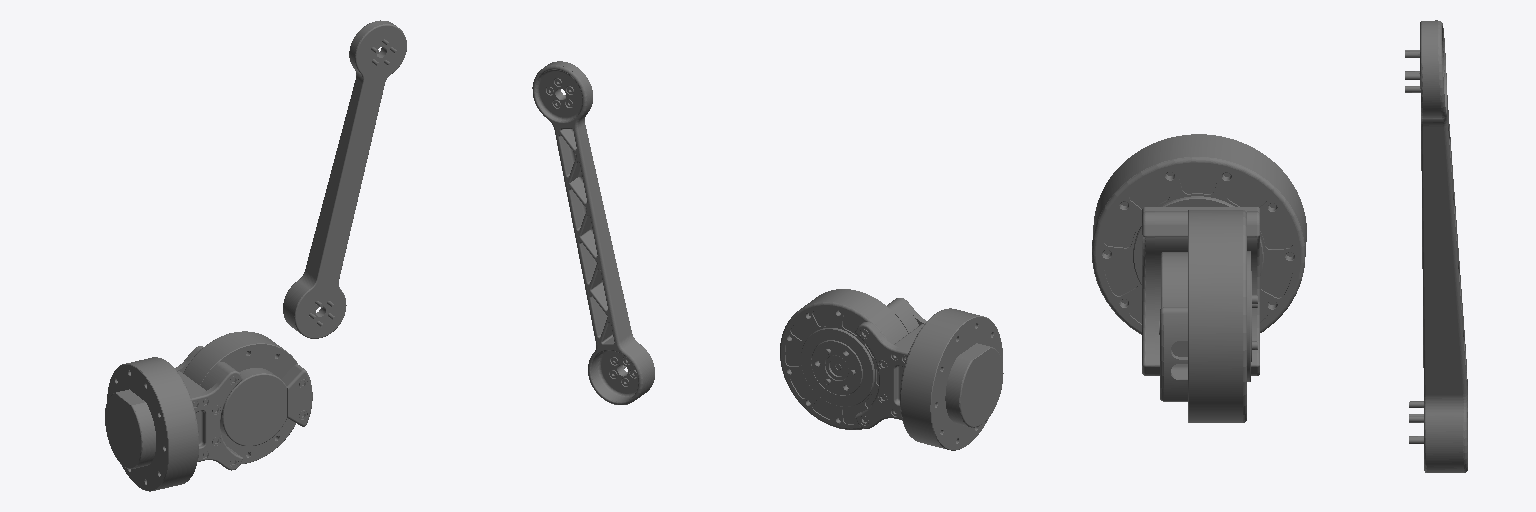
--- What the picture shows (computed from the rendered views, not written in the file) ---
The picture shows the robot from 3 angles, left to right: view 1: azimuth 30°, elevation 25°; view 2: azimuth 150°, elevation 25°; view 3: azimuth 270°, elevation 25°; orthographic projection.
Robot: quadruped — 12 links, 11 joints (6 revolute, 5 fixed); root link base_link; default pose: all joints at 0 but 3 set to mid-range because 0 is outside their limits (front_left_second_joint = 3.14, front_left_third_joint = 3.11, front_left_fourth_joint = -1.85).
Visible links, largest first — view 1: front_left_second_link, front_left_fifth_link, front_left_first_link; view 2: front_left_second_link, front_left_fifth_link, front_left_first_link; view 3: front_left_second_link, front_left_first_link, front_left_fifth_link.
Link boxes in pixels (<box>): front_left_second_link: <box>175,331,312,470</box>; front_left_fifth_link: <box>283,20,406,338</box>; front_left_first_link: <box>105,357,198,491</box>; front_left_second_link: <box>780,289,926,429</box>; front_left_fifth_link: <box>532,61,654,404</box>; front_left_first_link: <box>900,308,1003,450</box>; front_left_second_link: <box>1142,207,1259,422</box>; front_left_first_link: <box>1092,134,1306,334</box>; front_left_fifth_link: <box>1405,20,1467,472</box>.
Bounding box of the posed robot: 0.3059 × 0.1726 × 0.279 m (x, y, z).
Meshes: 7 distinct files referenced, 3 mesh visuals loaded (3 Collada DAE); not drawn: 4 (reference not matched to a file when rendering).

URDF robot description (quadruped):
<?xml version="1.0" ?>
<!-- =================================================================================== -->
<!-- |    This document was autogenerated by xacro from src/quadruped_robot_description/urdf/quadruped_robot.urdf.xacro | -->
<!-- |    EDITING THIS FILE BY HAND IS NOT RECOMMENDED                                 | -->
<!-- =================================================================================== -->
<robot name="quadruped">
  <gazebo>
    <plugin filename="ign_ros2_control-system" name="ign_ros2_control::IgnitionROS2ControlPlugin">
      <parameters>[local-path]/Documents/quadruped_robot/install/quadruped_controller/share/quadruped_controller/config/jtc_controllers.yaml</parameters>
    </plugin>
    <plugin filename="libignition-gazebo-detachable-joint-system.so" name="ignition::gazebo::systems::DetachableJoint">
      <parent_link>rear_left_foot_link</parent_link>
      <child_model>4BarBot</child_model>
      <child_link>rear_left_chain_close_b_link</child_link>
      <attach_topic>close_loop</attach_topic>
    </plugin>
    <!-- <plugin filename="libattach-links.so" name="ignition::gazebo::::systems::AttachLinks">
      <parent>rear_left_chain_close_a_link</parent>
      <child>rear_left_chain_close_b_link</child>
    </plugin> -->
  </gazebo>
  <mujoco>
    <compiler balanceinertia="true" discardvisual="false" meshdir="[local-path]/Documents/quadruped_robot/install/quadruped_robot_description/share/quadruped_robot_description/meshes"/>
  </mujoco>
  <material name="grey">
    <color rgba="0.5 0.5 0.5 1"/>
  </material>
  <link name="base_link">
    <visual>
      <origin rpy="0 0 3.141592653589793" xyz="0.0 0 0"/>
      <geometry name="base_link">
        <mesh filename="package://quadruped_robot_description/meshes/base_link.dae"/>
      </geometry>
      <material name="grey">
        <color rgba="0.5 0.5 0.5 1.0"/>
      </material>
    </visual>
    <collision>
      <origin rpy="0 0 3.141592653589793" xyz="0.0 0 0"/>
      <geometry name="base_link">
        <mesh filename="package://quadruped_robot_description/meshes/base_link.dae"/>
      </geometry>
    </collision>
    <inertial>
      <origin rpy="0.0 0.0 0.0" xyz="0.01 0 0.06"/>
      <mass value="50.0"/>
      <inertia ixx="0.2526041666666667" ixy="0.0" ixz="0.0" iyy="1.4920833333333334" iyz="0.0" izz="1.6613541666666667"/>
    </inertial>
  </link>
  <link name="imu_link"/>
  <joint name="imu_joint" type="fixed">
    <parent link="base_link"/>
    <child link="imu_link"/>
    <origin rpy=" 0.0 3.141592653589793 0.0" xyz="0.0 0.0 0.1"/>
  </joint>
  <!-- Define the thigh -->
  <!-- <link name="rear_left_leg_base_link"/> -->
  <!-- Define the joints -->
  <!-- <joint name="rear_left_base_to_leg_joint" type="fixed">
    <parent link="base_link"/>
    <child link="rear_left_leg_base_link"/>
    <origin rpy="0 0 3.141592653589793" xyz="-0.131 0.06 0.06"/>
  </joint>
  <link name="rear_left_first_link">
    <visual>
      <origin rpy="0 0 0" xyz="0.0 0 0.0"/>
      <geometry>
        <mesh filename="package://quadruped_robot_description/meshes/first_link.dae"/>
      </geometry>
      <material name="grey">
        <color rgba="0.5 0.5 0.5 1.0"/>
      </material>
    </visual>
    <collision name="rear_left_first_link_collision">
      <origin rpy="0 0 0" xyz="0.0 0 0.0"/>
      <geometry>
        <mesh filename="package://quadruped_robot_description/meshes/first_link.dae"/>
      </geometry>
    </collision>
    <inertial>
      <origin rpy="0.0 0.0 0.0" xyz="0.0 0.0 0.0"/>
      <mass value="0.6"/>
      <inertia ixx="0.0004550000000000001" ixy="0" ixz="0" iyy="0.0004550000000000001" iyz="0" izz="0.00075"/>
    </inertial>
  </link>
  <joint name="rear_left_leg_base_to_first_link_joint" type="fixed">
    <parent link="rear_left_leg_base_link"/>
    <child link="rear_left_first_link"/>
    <origin rpy="-1.5707963267948966 0.0 0.0" xyz="0.0 0.0 0.0"/>
  </joint>
  <link name="rear_left_second_link">
    <visual>
      <origin rpy="0 0 0" xyz="0.0 0 0.0"/>
      <geometry>
        <mesh filename="package://quadruped_robot_description/meshes/second_link.dae"/>
      </geometry>
      <material name="grey">
        <color rgba="0.5 0.5 0.5 1.0"/>
      </material>
    </visual>
    <collision name="rear_left_second_link_collision">
      <origin rpy="0 0 0" xyz="0.0 0 0.0"/>
      <geometry>
        <mesh filename="package://quadruped_robot_description/meshes/second_link.dae"/>
      </geometry>
    </collision>
    <inertial>
      <origin rpy="0.0 0.0 0.0" xyz="0.055 0  0"/>
      <mass value="0.6"/>
      <inertia ixx="0.0004550000000000001" ixy="0" ixz="0" iyy="0.0004550000000000001" iyz="0" izz="0.00075"/>
    </inertial>
  </link>
  <joint name="rear_left_first_joint" type="revolute">
    <parent link="rear_left_first_link"/>
    <child link="rear_left_second_link"/>
    <origin rpy="3.141592653589793 0.0 0.0" xyz="0.031 0.0 0.0"/>
    <axis xyz="1 0 0"/>
    <limit effort="100.0" lower="-3.1416" upper="3.1416" velocity="0.1"/>
    <dynamics damping="0.1" friction="0.1"/>
  </joint>
  <link name="rear_left_third_link">
    <visual>
      <origin rpy="0 0 0" xyz="0.0 0 0.0"/>
      <geometry>
        <mesh filename="package://quadruped_robot_description/meshes/third_link.dae"/>
      </geometry>
      <material name="grey">
        <color rgba="0.5 0.5 0.5 1.0"/>
      </material>
    </visual>
    <collision name="rear_left_third_link_collision">
      <origin rpy="0 0 0" xyz="0.0 0 0.0"/>
      <geometry>
        <mesh filename="package://quadruped_robot_description/meshes/third_link.dae"/>
      </geometry>
    </collision>
    <inertial>
      <origin rpy="0.0 0.0 0.0" xyz="0.0 0  0.025"/>
      <mass value="0.6"/>
      <inertia ixx="0.0004550000000000001" ixy="0" ixz="0" iyy="0.0004550000000000001" iyz="0" izz="0.00075"/>
    </inertial>
  </link>
  <joint name="rear_left_second_joint" type="revolute">
    <parent link="rear_left_second_link"/>
    <child link="rear_left_third_link"/>
    <origin rpy="0.0 0.0 3.141592653589793 " xyz="0.064 0.0 0.023"/>
    <axis xyz="0 0 1"/>
    <limit effort="100.0" lower="1.57" upper="4.71" velocity="0.1"/>
    <dynamics damping="0.1" friction="0.1"/>
  </joint>
  <link name="rear_left_fourth_link">
    <visual>
      <origin rpy="0 0 0" xyz="0.0 0 0.0"/>
      <geometry>
        <mesh filename="package://quadruped_robot_description/meshes/fourth_link.dae"/>
      </geometry>
      <material name="grey">
        <color rgba="0.5 0.5 0.5 1.0"/>
      </material>
    </visual>
    <collision name="rear_left_fourth_link_collision">
      <origin rpy="0 0 0" xyz="0.0 0 0.0"/>
      <geometry>
        <mesh filename="package://quadruped_robot_description/meshes/fourth_link.dae"/>
      </geometry>
    </collision>
    <inertial>
      <origin rpy="0.0 0.0 0.0" xyz="0.0625 0.0  0.015"/>
      <mass value="0.04"/>
      <inertia ixx="3.1041666666666677e-06" ixy="0.0" ixz="0.0" iyy="0.00010310416666666667" iyz="0.0" izz="0.00010416666666666666"/>
    </inertial>
  </link>
  <joint name="rear_left_third_joint" type="revolute">
    <parent link="rear_left_third_link"/>
    <child link="rear_left_fourth_link"/>
    <origin rpy="0.0 0.0 -3.1415800872191793" xyz="0.0 0.0 0.0555"/>
    <axis xyz="0 0 1"/>
    <limit effort="100.0" lower="0.425" upper="5.8" velocity="0.1"/>
    <dynamics damping="0.1" friction="0.1"/>
  </joint>
  <link name="rear_left_fifth_link">
    <visual>
      <origin rpy="0 0 0" xyz="0.0 0 0.0"/>
      <geometry>
        <mesh filename="package://quadruped_robot_description/meshes/fifth_link.dae"/>
      </geometry>
      <material name="grey">
        <color rgba="0.5 0.5 0.5 1.0"/>
      </material>
    </visual>
    <collision name="rear_left_fifth_link_collision">
      <origin rpy="0 0 0" xyz="0.0 0 0.0"/>
      <geometry>
        <mesh filename="package://quadruped_robot_description/meshes/fifth_link.dae"/>
      </geometry>
    </collision>
    <inertial>
      <origin rpy="0.0 0.0 0.0" xyz="0.105 0  0.0"/>
      <mass value="0.05"/>
      <inertia ixx="7.942708333333334e-06" ixy="0.0" ixz="0.0" iyy="0.0002616927083333333" iyz="0.0" izz="0.00026708333333333337"/>
    </inertial>
  </link>
  <joint name="rear_left_fourth_joint" type="revolute">
    <parent link="rear_left_fourth_link"/>
    <child link="rear_left_fifth_link"/>
    <origin rpy="0.0 0.0 3.141592653589793" xyz="0.125 0.0 0.0255"/>
    <axis xyz="0 0 -1"/>
    <limit effort="  2.0" lower="-0.8" upper="-2.9" velocity="0.1"/>
    <dynamics damping="0.1" friction="0.1"/>
  </joint>
  <link name="rear_left_sixth_link">
    <visual>
      <origin rpy="0 0 0" xyz="0.0 0 0.0"/>
      <geometry>
        <mesh filename="package://quadruped_robot_description/meshes/sixth_link.dae"/>
      </geometry>
      <material name="grey">
        <color rgba="0.5 0.5 0.5 1.0"/>
      </material>
    </visual>
    <collision name="rear_left_sixth_link_collision">
      <origin rpy="0 0 0" xyz="0.0 0 0.0"/>
      <geometry>
        <mesh filename="package://quadruped_robot_description/meshes/sixth_link.dae"/>
      </geometry>
    </collision>
    <inertial>
      <origin rpy="0.0 0.0 0.0" xyz="0.105 0  0.0"/>
      <mass value="0.05"/>
      <inertia ixx="7.942708333333334e-06" ixy="0.0" ixz="0.0" iyy="0.0002616927083333333" iyz="0.0" izz="0.00026708333333333337"/>
    </inertial>
  </link>
  <joint name="rear_left_fifth_joint" type="revolute">
    <parent link="rear_left_third_link"/>
    <child link="rear_left_sixth_link"/>
    <origin rpy="0.0 0.0 0.0" xyz="-0.125 0.0 0.058"/>
    <axis xyz="0 0 -1"/>
    <limit effort="100.0" lower="-3.14" upper="3.14" velocity="0.1"/>
    <dynamics damping="0.1" friction="0.1"/>
  </joint>
  <link name="rear_left_foot_link">
    <visual>
      <origin rpy=" 0 0 0" xyz="0.0 0.0  0.0 "/>
      <geometry>
        <box size="0.0001 0.0001 0.0001 "/>
      </geometry>
      <material name="grey">
        <color rgba="0.5 0.5 0.5 1.0"/>
      </material>
    </visual>
    <collision name="rear_left_foot_link_collision">
      <origin rpy=" 0 0 0" xyz="0.0 0.0  0.0 "/>
      <geometry>
        <box size="0.0001 0.0001 0.0001 "/>
      </geometry>
    </collision>
    <inertial>
      <mass value="2e-06"/>
      <inertia ixx="1.1e-09" ixy="0" ixz="0" iyy="1.1e-09" iyz="0" izz="1.1e-09"/>
    </inertial>
  </link>
  <joint name="rear_left_foot_joint" type="revolute">
    <parent link="rear_left_sixth_link"/>
    <child link="rear_left_foot_link"/>
    <origin rpy="0.0 0.0 0.0" xyz="0.21 0.0 0.0115"/>
    <axis xyz="0 0 1"/>
    <limit effort="100.0" lower="-3.14" upper="3.14" velocity="0.1"/>
    <dynamics damping="0.1" friction="0.1"/>
  </joint>
  <link name="rear_left_chain_close_a_link">
    <visual>
      <origin rpy=" 0 0 0" xyz="0.0 0.0  0.0 "/>
      <geometry>
        <box size="0.0001 0.0001 0.0001 "/>
      </geometry>
      <material name="grey">
        <color rgba="0.5 0.5 0.5 1.0"/>
      </material>
    </visual>
    <collision name="rear_left_chain_close_a_link_collision">
      <origin rpy=" 0 0 0" xyz="0.0 0.0  0.0 "/>
      <geometry>
        <box size="0.0001 0.0001 0.0001 "/>
      </geometry>
    </collision>
    <inertial>
      <mass value="2e-06"/>
      <inertia ixx="1.1e-09" ixy="0" ixz="0" iyy="1.1e-09" iyz="0" izz="1.1e-09"/>
    </inertial>
  </link>
  <joint name="rear_left_chain_close_a_joint" type="fixed">
    <parent link="rear_left_fifth_link"/>
    <child link="rear_left_chain_close_a_link"/>
    <origin rpy="0.0 0.0 0.0" xyz="0.105 0.0 -0.0115"/>
    <axis xyz="0 0 1"/>
  </joint>
  <link name="rear_left_chain_close_b_link">
    <visual>
      <origin rpy=" 0 0 0" xyz="0.0 0.0  0.0 "/>
      <geometry>
        <box size="0.0001 0.0001 0.0001 "/>
      </geometry>
      <material name="grey">
        <color rgba="0.5 0.5 0.5 1.0"/>
      </material>
    </visual>
    <collision name="rear_left_chain_close_b_link_collision">
      <origin rpy=" 0 0 0" xyz="0.0 0.0  0.0 "/>
      <geometry>
        <box size="0.0001 0.0001 0.0001 "/>
      </geometry>
    </collision>
    <inertial>
      <mass value="2e-06"/>
      <inertia ixx="1.1e-09" ixy="0" ixz="0" iyy="1.1e-09" iyz="0" izz="1.1e-09"/>
    </inertial>
  </link>
  <joint name="rear_left_chain_close_b_joint" type="fixed">
    <parent link="rear_left_foot_link"/>
    <child link="rear_left_chain_close_b_link"/>
    <origin rpy="0.0 0.0 0.0" xyz="0.105 0.0 0.0"/>
    <axis xyz="0 0 1"/>
  </joint> -->
  <!-- Define the thigh -->
  <!-- <link name="rear_right_leg_base_link"/> -->
  <!-- Define the joints -->
  <!-- <joint name="rear_right_base_to_leg_joint" type="fixed">
    <parent link="base_link"/>
    <child link="rear_right_leg_base_link"/>
    <origin rpy="0 0 3.141592653589793" xyz="-0.131 -0.06 0.06"/>
  </joint>
  <link name="rear_right_first_link">
    <visual>
      <origin rpy="0 0 0" xyz="0.0 0 0.0"/>
      <geometry>
        <mesh filename="package://quadruped_robot_description/meshes/first_link.dae"/>
      </geometry>
      <material name="grey">
        <color rgba="0.5 0.5 0.5 1.0"/>
      </material>
    </visual>
    <collision name="rear_right_first_link_collision">
      <origin rpy="0 0 0" xyz="0.0 0 0.0"/>
      <geometry>
        <mesh filename="package://quadruped_robot_description/meshes/first_link.dae"/>
      </geometry>
    </collision>
    <inertial>
      <origin rpy="0.0 0.0 0.0" xyz="0.0 0.0 0.0"/>
      <mass value="0.6"/>
      <inertia ixx="0.0004550000000000001" ixy="0" ixz="0" iyy="0.0004550000000000001" iyz="0" izz="0.00075"/>
    </inertial>
  </link>
  <joint name="rear_right_leg_base_to_first_link_joint" type="fixed">
    <parent link="rear_right_leg_base_link"/>
    <child link="rear_right_first_link"/>
    <origin rpy="-1.5707963267948966 0.0 0.0" xyz="0.0 0.0 0.0"/>
  </joint>
  <link name="rear_right_second_link">
    <visual>
      <origin rpy="0 0 0" xyz="0.0 0 0.0"/>
      <geometry>
        <mesh filename="package://quadruped_robot_description/meshes/second_link.dae"/>
      </geometry>
      <material name="grey">
        <color rgba="0.5 0.5 0.5 1.0"/>
      </material>
    </visual>
    <collision name="rear_right_second_link_collision">
      <origin rpy="0 0 0" xyz="0.0 0 0.0"/>
      <geometry>
        <mesh filename="package://quadruped_robot_description/meshes/second_link.dae"/>
      </geometry>
    </collision>
    <inertial>
      <origin rpy="0.0 0.0 0.0" xyz="0.055 0  0"/>
      <mass value="0.6"/>
      <inertia ixx="0.0004550000000000001" ixy="0" ixz="0" iyy="0.0004550000000000001" iyz="0" izz="0.00075"/>
    </inertial>
  </link>
  <joint name="rear_right_first_joint" type="revolute">
    <parent link="rear_right_first_link"/>
    <child link="rear_right_second_link"/>
    <origin rpy="0.0 0.0 0.0" xyz="0.031 0.0 0.0"/>
    <axis xyz="1 0 0"/>
    <limit effort="100.0" lower="-3.1416" upper="3.1416" velocity="0.1"/>
    <dynamics damping="0.1" friction="0.1"/>
  </joint>
  <link name="rear_right_third_link">
    <visual>
      <origin rpy="0 0 0" xyz="0.0 0 0.0"/>
      <geometry>
        <mesh filename="package://quadruped_robot_description/meshes/third_link.dae"/>
      </geometry>
      <material name="grey">
        <color rgba="0.5 0.5 0.5 1.0"/>
      </material>
    </visual>
    <collision name="rear_right_third_link_collision">
      <origin rpy="0 0 0" xyz="0.0 0 0.0"/>
      <geometry>
        <mesh filename="package://quadruped_robot_description/meshes/third_link.dae"/>
      </geometry>
    </collision>
    <inertial>
      <origin rpy="0.0 0.0 0.0" xyz="0.0 0  0.025"/>
      <mass value="0.6"/>
      <inertia ixx="0.0004550000000000001" ixy="0" ixz="0" iyy="0.0004550000000000001" iyz="0" izz="0.00075"/>
    </inertial>
  </link>
  <joint name="rear_right_second_joint" type="revolute">
    <parent link="rear_right_second_link"/>
    <child link="rear_right_third_link"/>
    <origin rpy="0.0 0.0 3.141592653589793 " xyz="0.064 0.0 0.023"/>
    <axis xyz="0 0 1"/>
    <limit effort="100.0" lower="1.57" upper="4.71" velocity="0.1"/>
    <dynamics damping="0.1" friction="0.1"/>
  </joint>
  <link name="rear_right_fourth_link">
    <visual>
      <origin rpy="0 0 0" xyz="0.0 0 0.0"/>
      <geometry>
        <mesh filename="package://quadruped_robot_description/meshes/fourth_link.dae"/>
      </geometry>
      <material name="grey">
        <color rgba="0.5 0.5 0.5 1.0"/>
      </material>
    </visual>
    <collision name="rear_right_fourth_link_collision">
      <origin rpy="0 0 0" xyz="0.0 0 0.0"/>
      <geometry>
        <mesh filename="package://quadruped_robot_description/meshes/fourth_link.dae"/>
      </geometry>
    </collision>
    <inertial>
      <origin rpy="0.0 0.0 0.0" xyz="0.0625 0.0  0.015"/>
      <mass value="0.04"/>
      <inertia ixx="3.1041666666666677e-06" ixy="0.0" ixz="0.0" iyy="0.00010310416666666667" iyz="0.0" izz="0.00010416666666666666"/>
    </inertial>
  </link>
  <joint name="rear_right_third_joint" type="revolute">
    <parent link="rear_right_third_link"/>
    <child link="rear_right_fourth_link"/>
    <origin rpy="0.0 0.0 3.1415800872191793" xyz="0.0 0.0 0.0555"/>
    <axis xyz="0 0 1"/>
    <limit effort="100.0" lower="0.425" upper="5.8" velocity="0.1"/>
    <dynamics damping="0.1" friction="0.1"/>
  </joint>
  <link name="rear_right_fifth_link">
    <visual>
      <origin rpy="0 0 0" xyz="0.0 0 0.0"/>
      <geometry>
        <mesh filename="package://quadruped_robot_description/meshes/fifth_link.dae"/>
      </geometry>
      <material name="grey">
        <color rgba="0.5 0.5 0.5 1.0"/>
      </material>
    </visual>
    <collision name="rear_right_fifth_link_collision">
      <origin rpy="0 0 0" xyz="0.0 0 0.0"/>
      <geometry>
        <mesh filename="package://quadruped_robot_description/meshes/fifth_link.dae"/>
      </geometry>
    </collision>
    <inertial>
      <origin rpy="0.0 0.0 0.0" xyz="0.105 0  0.0"/>
      <mass value="0.05"/>
      <inertia ixx="7.942708333333334e-06" ixy="0.0" ixz="0.0" iyy="0.0002616927083333333" iyz="0.0" izz="0.00026708333333333337"/>
    </inertial>
  </link>
  <joint name="rear_right_fourth_joint" type="revolute">
    <parent link="rear_right_fourth_link"/>
    <child link="rear_right_fifth_link"/>
    <origin rpy="0.0 0.0 3.141592653589793" xyz="0.125 0.0 0.0255"/>
    <axis xyz="0 0 -1"/>
    <limit effort="  2.0" lower="-0.8" upper="-2.9" velocity="0.1"/>
    <dynamics damping="0.1" friction="0.1"/>
  </joint>
  <link name="rear_right_sixth_link">
    <visual>
      <origin rpy="0 0 0" xyz="0.0 0 0.0"/>
      <geometry>
        <mesh filename="package://quadruped_robot_description/meshes/sixth_link.dae"/>
      </geometry>
      <material name="grey">
        <color rgba="0.5 0.5 0.5 1.0"/>
      </material>
    </visual>
    <collision name="rear_right_sixth_link_collision">
      <origin rpy="0 0 0" xyz="0.0 0 0.0"/>
      <geometry>
        <mesh filename="package://quadruped_robot_description/meshes/sixth_link.dae"/>
      </geometry>
    </collision>
    <inertial>
      <origin rpy="0.0 0.0 0.0" xyz="0.105 0  0.0"/>
      <mass value="0.05"/>
      <inertia ixx="7.942708333333334e-06" ixy="0.0" ixz="0.0" iyy="0.0002616927083333333" iyz="0.0" izz="0.00026708333333333337"/>
    </inertial>
  </link>
  <joint name="rear_right_fifth_joint" type="revolute">
    <parent link="rear_right_third_link"/>
    <child link="rear_right_sixth_link"/>
    <origin rpy="0.0 0.0 0.0" xyz="-0.125 0.0 0.058"/>
    <axis xyz="0 0 -1"/>
    <limit effort="100.0" lower="-3.14" upper="3.14" velocity="0.1"/>
    <dynamics damping="0.1" friction="0.1"/>
  </joint>
  <link name="rear_right_foot_link">
    <visual>
      <origin rpy=" 0 0 0" xyz="0.0 0.0  0.0 "/>
      <geometry>
        <box size="0.0001 0.0001 0.0001 "/>
      </geometry>
      <material name="grey">
        <color rgba="0.5 0.5 0.5 1.0"/>
      </material>
    </visual>
    <collision name="rear_right_foot_link_collision">
      <origin rpy=" 0 0 0" xyz="0.0 0.0  0.0 "/>
      <geometry>
        <box size="0.0001 0.0001 0.0001 "/>
      </geometry>
    </collision>
    <inertial>
      <mass value="2e-06"/>
      <inertia ixx="1.1e-09" ixy="0" ixz="0" iyy="1.1e-09" iyz="0" izz="1.1e-09"/>
    </inertial>
  </link>
  <joint name="rear_right_foot_joint" type="revolute">
    <parent link="rear_right_sixth_link"/>
    <child link="rear_right_foot_link"/>
    <origin rpy="0.0 0.0 0.0" xyz="0.21 0.0 0.0115"/>
    <axis xyz="0 0 1"/>
    <limit effort="100.0" lower="-3.14" upper="3.14" velocity="0.1"/>
    <dynamics damping="0.1" friction="0.1"/>
  </joint>
  <link name="rear_right_chain_close_a_link">
    <visual>
      <origin rpy=" 0 0 0" xyz="0.0 0.0  0.0 "/>
      <geometry>
        <box size="0.0001 0.0001 0.0001 "/>
      </geometry>
      <material name="grey">
        <color rgba="0.5 0.5 0.5 1.0"/>
      </material>
    </visual>
    <collision name="rear_right_chain_close_a_link_collision">
      <origin rpy=" 0 0 0" xyz="0.0 0.0  0.0 "/>
      <geometry>
        <box size="0.0001 0.0001 0.0001 "/>
      </geometry>
    </collision>
    <inertial>
      <mass value="2e-06"/>
      <inertia ixx="1.1e-09" ixy="0" ixz="0" iyy="1.1e-09" iyz="0" izz="1.1e-09"/>
    </inertial>
  </link>
  <joint name="rear_right_chain_close_a_joint" type="fixed">
    <parent link="rear_right_fifth_link"/>
    <child link="rear_right_chain_close_a_link"/>
    <origin rpy="0.0 0.0 0.0" xyz="0.105 0.0 -0.0115"/>
    <axis xyz="0 0 1"/>
  </joint>
  <link name="rear_right_chain_close_b_link">
    <visual>
      <origin rpy=" 0 0 0" xyz="0.0 0.0  0.0 "/>
      <geometry>
        <box size="0.0001 0.0001 0.0001 "/>
      </geometry>
      <material name="grey">
        <color rgba="0.5 0.5 0.5 1.0"/>
      </material>
    </visual>
    <collision name="rear_right_chain_close_b_link_collision">
      <origin rpy=" 0 0 0" xyz="0.0 0.0  0.0 "/>
      <geometry>
        <box size="0.0001 0.0001 0.0001 "/>
      </geometry>
    </collision>
    <inertial>
      <mass value="2e-06"/>
      <inertia ixx="1.1e-09" ixy="0" ixz="0" iyy="1.1e-09" iyz="0" izz="1.1e-09"/>
    </inertial>
  </link>
  <joint name="rear_right_chain_close_b_joint" type="fixed">
    <parent link="rear_right_foot_link"/>
    <child link="rear_right_chain_close_b_link"/>
    <origin rpy="0.0 0.0 0.0" xyz="0.105 0.0 0.0"/>
    <axis xyz="0 0 1"/>
  </joint> -->
  <!-- Define the thigh -->
  <!-- <link name="front_right_leg_base_link"/> -->
  <!-- Define the joints -->
  <!-- <joint name="front_right_base_to_leg_joint" type="fixed">
    <parent link="base_link"/>
    <child link="front_right_leg_base_link"/>
    <origin rpy="0 0 0" xyz="0.131 -0.06 0.06"/>
  </joint>
  <link name="front_right_first_link">
    <visual>
      <origin rpy="0 0 0" xyz="0.0 0 0.0"/>
      <geometry>
        <mesh filename="package://quadruped_robot_description/meshes/first_link.dae"/>
      </geometry>
      <material name="grey">
        <color rgba="0.5 0.5 0.5 1.0"/>
      </material>
    </visual>
    <collision name="front_right_first_link_collision">
      <origin rpy="0 0 0" xyz="0.0 0 0.0"/>
      <geometry>
        <mesh filename="package://quadruped_robot_description/meshes/first_link.dae"/>
      </geometry>
    </collision>
    <inertial>
      <origin rpy="0.0 0.0 0.0" xyz="0.0 0.0 0.0"/>
      <mass value="0.6"/>
      <inertia ixx="0.0004550000000000001" ixy="0" ixz="0" iyy="0.0004550000000000001" iyz="0" izz="0.00075"/>
    </inertial>
  </link>
  <joint name="front_right_leg_base_to_first_link_joint" type="fixed">
    <parent link="front_right_leg_base_link"/>
    <child link="front_right_first_link"/>
    <origin rpy="-1.5707963267948966 0.0 0.0" xyz="0.0 0.0 0.0"/>
  </joint>
  <link name="front_right_second_link">
    <visual>
      <origin rpy="0 0 0" xyz="0.0 0 0.0"/>
      <geometry>
        <mesh filename="package://quadruped_robot_description/meshes/second_link.dae"/>
      </geometry>
      <material name="grey">
        <color rgba="0.5 0.5 0.5 1.0"/>
      </material>
    </visual>
    <collision name="front_right_second_link_collision">
      <origin rpy="0 0 0" xyz="0.0 0 0.0"/>
      <geometry>
        <mesh filename="package://quadruped_robot_description/meshes/second_link.dae"/>
      </geometry>
    </collision>
    <inertial>
      <origin rpy="0.0 0.0 0.0" xyz="0.055 0  0"/>
      <mass value="0.6"/>
      <inertia ixx="0.0004550000000000001" ixy="0" ixz="0" iyy="0.0004550000000000001" iyz="0" izz="0.00075"/>
    </inertial>
  </link>
  <joint name="front_right_first_joint" type="revolute">
    <parent link="front_right_first_link"/>
    <child link="front_right_second_link"/>
    <origin rpy="3.141592653589793 0.0 0.0" xyz="0.031 0.0 0.0"/>
    <axis xyz="1 0 0"/>
    <limit effort="100.0" lower="-3.1416" upper="3.1416" velocity="0.1"/>
    <dynamics damping="0.1" friction="0.1"/>
  </joint>
  <link name="front_right_third_link">
    <visual>
      <origin rpy="0 0 0" xyz="0.0 0 0.0"/>
      <geometry>
        <mesh filename="package://quadruped_robot_description/meshes/third_link.dae"/>
      </geometry>
      <material name="grey">
        <color rgba="0.5 0.5 0.5 1.0"/>
      </material>
    </visual>
    <collision name="front_right_third_link_collision">
      <origin rpy="0 0 0" xyz="0.0 0 0.0"/>
      <geometry>
        <mesh filename="package://quadruped_robot_description/meshes/third_link.dae"/>
      </geometry>
    </collision>
    <inertial>
      <origin rpy="0.0 0.0 0.0" xyz="0.0 0  0.025"/>
      <mass value="0.6"/>
      <inertia ixx="0.0004550000000000001" ixy="0" ixz="0" iyy="0.0004550000000000001" iyz="0" izz="0.00075"/>
    </inertial>
  </link>
  <joint name="front_right_second_joint" type="revolute">
    <parent link="front_right_second_link"/>
    <child link="front_right_third_link"/>
    <origin rpy="0.0 0.0 3.141592653589793 " xyz="0.064 0.0 0.023"/>
    <axis xyz="0 0 1"/>
    <limit effort="100.0" lower="1.57" upper="4.71" velocity="0.1"/>
    <dynamics damping="0.1" friction="0.1"/>
  </joint>
  <link name="front_right_fourth_link">
    <visual>
      <origin rpy="0 0 0" xyz="0.0 0 0.0"/>
      <geometry>
        <mesh filename="package://quadruped_robot_description/meshes/fourth_link.dae"/>
      </geometry>
      <material name="grey">
        <color rgba="0.5 0.5 0.5 1.0"/>
      </material>
    </visual>
    <collision name="front_right_fourth_link_collision">
      <origin rpy="0 0 0" xyz="0.0 0 0.0"/>
      <geometry>
        <mesh filename="package://quadruped_robot_description/meshes/fourth_link.dae"/>
      </geometry>
    </collision>
    <inertial>
      <origin rpy="0.0 0.0 0.0" xyz="0.0625 0.0  0.015"/>
      <mass value="0.04"/>
      <inertia ixx="3.1041666666666677e-06" ixy="0.0" ixz="0.0" iyy="0.00010310416666666667" iyz="0.0" izz="0.00010416666666666666"/>
    </inertial>
  </link>
  <joint name="front_right_third_joint" type="revolute">
    <parent link="front_right_third_link"/>
    <child link="front_right_fourth_link"/>
    <origin rpy="0.0 0.0 -3.1415800872191793" xyz="0.0 0.0 0.0555"/>
    <axis xyz="0 0 1"/>
    <limit effort="100.0" lower="0.425" upper="5.8" velocity="0.1"/>
    <dynamics damping="0.1" friction="0.1"/>
  </joint>
  <link name="front_right_fifth_link">
    <visual>
      <origin rpy="0 0 0" xyz="0.0 0 0.0"/>
      <geometry>
        <mesh filename="package://quadruped_robot_description/meshes/fifth_link.dae"/>
      </geometry>
      <material name="grey">
        <color rgba="0.5 0.5 0.5 1.0"/>
      </material>
    </visual>
    <collision name="front_right_fifth_link_collision">
      <origin rpy="0 0 0" xyz="0.0 0 0.0"/>
      <geometry>
        <mesh filename="package://quadruped_robot_description/meshes/fifth_link.dae"/>
      </geometry>
    </collision>
    <inertial>
      <origin rpy="0.0 0.0 0.0" xyz="0.105 0  0.0"/>
      <mass value="0.05"/>
      <inertia ixx="7.942708333333334e-06" ixy="0.0" ixz="0.0" iyy="0.0002616927083333333" iyz="0.0" izz="0.00026708333333333337"/>
    </inertial>
  </link>
  <joint name="front_right_fourth_joint" type="revolute">
    <parent link="front_right_fourth_link"/>
    <child link="front_right_fifth_link"/>
    <origin rpy="0.0 0.0 3.141592653589793" xyz="0.125 0.0 0.0255"/>
    <axis xyz="0 0 -1"/>
    <limit effort="  2.0" lower="-0.8" upper="-2.9" velocity="0.1"/>
    <dynamics damping="0.1" friction="0.1"/>
  </joint>
  <link name="front_right_sixth_link">
    <visual>
      <origin rpy="0 0 0" xyz="0.0 0 0.0"/>
      <geometry>
        <mesh filename="package://quadruped_robot_description/meshes/sixth_link.dae"/>
      </geometry>
      <material name="grey">
        <color rgba="0.5 0.5 0.5 1.0"/>
      </material>
    </visual>
    <collision name="front_right_sixth_link_collision">
      <origin rpy="0 0 0" xyz="0.0 0 0.0"/>
      <geometry>
        <mesh filename="package://quadruped_robot_description/meshes/sixth_link.dae"/>
      </geometry>
    </collision>
    <inertial>
      <origin rpy="0.0 0.0 0.0" xyz="0.105 0  0.0"/>
      <mass value="0.05"/>
      <inertia ixx="7.942708333333334e-06" ixy="0.0" ixz="0.0" iyy="0.0002616927083333333" iyz="0.0" izz="0.00026708333333333337"/>
    </inertial>
  </link>
  <joint name="front_right_fifth_joint" type="revolute">
    <parent link="front_right_third_link"/>
    <child link="front_right_sixth_link"/>
    <origin rpy="0.0 0.0 0.0" xyz="-0.125 0.0 0.058"/>
    <axis xyz="0 0 -1"/>
    <limit effort="100.0" lower="-3.14" upper="3.14" velocity="0.1"/>
    <dynamics damping="0.1" friction="0.1"/>
  </joint>
  <link name="front_right_foot_link">
    <visual>
      <origin rpy=" 0 0 0" xyz="0.0 0.0  0.0 "/>
      <geometry>
        <box size="0.0001 0.0001 0.0001 "/>
      </geometry>
      <material name="grey">
        <color rgba="0.5 0.5 0.5 1.0"/>
      </material>
    </visual>
    <collision name="front_right_foot_link_collision">
      <origin rpy=" 0 0 0" xyz="0.0 0.0  0.0 "/>
      <geometry>
        <box size="0.0001 0.0001 0.0001 "/>
      </geometry>
    </collision>
    <inertial>
      <mass value="2e-06"/>
      <inertia ixx="1.1e-09" ixy="0" ixz="0" iyy="1.1e-09" iyz="0" izz="1.1e-09"/>
    </inertial>
  </link>
  <joint name="front_right_foot_joint" type="revolute">
    <parent link="front_right_sixth_link"/>
    <child link="front_right_foot_link"/>
    <origin rpy="0.0 0.0 0.0" xyz="0.21 0.0 0.0115"/>
    <axis xyz="0 0 1"/>
    <limit effort="100.0" lower="-3.14" upper="3.14" velocity="0.1"/>
    <dynamics damping="0.1" friction="0.1"/>
  </joint>
  <link name="front_right_chain_close_a_link">
    <visual>
      <origin rpy=" 0 0 0" xyz="0.0 0.0  0.0 "/>
      <geometry>
        <box size="0.0001 0.0001 0.0001 "/>
      </geometry>
      <material name="grey">
        <color rgba="0.5 0.5 0.5 1.0"/>
      </material>
    </visual>
    <collision name="front_right_chain_close_a_link_collision">
      <origin rpy=" 0 0 0" xyz="0.0 0.0  0.0 "/>
      <geometry>
        <box size="0.0001 0.0001 0.0001 "/>
      </geometry>
    </collision>
    <inertial>
      <mass value="2e-06"/>
      <inertia ixx="1.1e-09" ixy="0" ixz="0" iyy="1.1e-09" iyz="0" izz="1.1e-09"/>
    </inertial>
  </link>
  <joint name="front_right_chain_close_a_joint" type="fixed">
    <parent link="front_right_fifth_link"/>
    <child link="front_right_chain_close_a_link"/>
    <origin rpy="0.0 0.0 0.0" xyz="0.105 0.0 -0.0115"/>
    <axis xyz="0 0 1"/>
  </joint>
  <link name="front_right_chain_close_b_link">
    <visual>
      <origin rpy=" 0 0 0" xyz="0.0 0.0  0.0 "/>
      <geometry>
        <box size="0.0001 0.0001 0.0001 "/>
      </geometry>
      <material name="grey">
        <color rgba="0.5 0.5 0.5 1.0"/>
      </material>
    </visual>
    <collision name="front_right_chain_close_b_link_collision">
      <origin rpy=" 0 0 0" xyz="0.0 0.0  0.0 "/>
      <geometry>
        <box size="0.0001 0.0001 0.0001 "/>
      </geometry>
    </collision>
    <inertial>
      <mass value="2e-06"/>
      <inertia ixx="1.1e-09" ixy="0" ixz="0" iyy="1.1e-09" iyz="0" izz="1.1e-09"/>
    </inertial>
  </link>
  <joint name="front_right_chain_close_b_joint" type="fixed">
    <parent link="front_right_foot_link"/>
    <child link="front_right_chain_close_b_link"/>
    <origin rpy="0.0 0.0 0.0" xyz="0.105 0.0 0.0"/>
    <axis xyz="0 0 1"/>
  </joint> -->
  <!-- Define the thigh -->
  <link name="front_left_leg_base_link"/>
  <!-- Define the joints -->
  <joint name="front_left_base_to_leg_joint" type="fixed">
    <parent link="base_link"/>
    <child link="front_left_leg_base_link"/>
    <origin rpy="0 0 0" xyz="0.131 0.06 0.06"/>
  </joint>
  <link name="front_left_first_link">
    <visual>
      <origin rpy="0 0 0" xyz="0.0 0 0.0"/>
      <geometry>
        <mesh filename="package://quadruped_robot_description/meshes/first_link.dae"/>
      </geometry>
      <material name="grey">
        <color rgba="0.5 0.5 0.5 1.0"/>
      </material>
    </visual>
    <collision name="front_left_first_link_collision">
      <origin rpy="0 0 0" xyz="0.0 0 0.0"/>
      <geometry>
        <mesh filename="package://quadruped_robot_description/meshes/first_link.dae"/>
      </geometry>
    </collision>
    <inertial>
      <origin rpy="0.0 0.0 0.0" xyz="0.0 0.0 0.0"/>
      <mass value="0.6"/>
      <inertia ixx="0.0004550000000000001" ixy="0" ixz="0" iyy="0.0004550000000000001" iyz="0" izz="0.00075"/>
    </inertial>
  </link>
  <joint name="front_left_leg_base_to_first_link_joint" type="fixed">
    <parent link="front_left_leg_base_link"/>
    <child link="front_left_first_link"/>
    <origin rpy="-1.5707963267948966 0.0 0.0" xyz="0.0 0.0 0.0"/>
  </joint>
  <link name="front_left_second_link">
    <visual>
      <origin rpy="0 0 0" xyz="0.0 0 0.0"/>
      <geometry>
        <mesh filename="package://quadruped_robot_description/meshes/second_link.dae"/>
      </geometry>
      <material name="grey">
        <color rgba="0.5 0.5 0.5 1.0"/>
      </material>
    </visual>
    <collision name="front_left_second_link_collision">
      <origin rpy="0 0 0" xyz="0.0 0 0.0"/>
      <geometry>
        <mesh filename="package://quadruped_robot_description/meshes/second_link.dae"/>
      </geometry>
    </collision>
    <inertial>
      <origin rpy="0.0 0.0 0.0" xyz="0.055 0  0"/>
      <mass value="0.6"/>
      <inertia ixx="0.0004550000000000001" ixy="0" ixz="0" iyy="0.0004550000000000001" iyz="0" izz="0.00075"/>
    </inertial>
  </link>
  <joint name="front_left_first_joint" type="revolute">
    <parent link="front_left_first_link"/>
    <child link="front_left_second_link"/>
    <origin rpy="0.0 0.0 0.0" xyz="0.031 0.0 0.0"/>
    <axis xyz="1 0 0"/>
    <limit effort="100.0" lower="-3.1416" upper="3.1416" velocity="0.1"/>
    <dynamics damping="0.1" friction="0.1"/>
  </joint>
  <link name="front_left_third_link">
    <visual>
      <origin rpy="0 0 0" xyz="0.0 0 0.0"/>
      <geometry>
        <mesh filename="package://quadruped_robot_description/meshes/third_link.dae"/>
      </geometry>
      <material name="grey">
        <color rgba="0.5 0.5 0.5 1.0"/>
      </material>
    </visual>
    <collision name="front_left_third_link_collision">
      <origin rpy="0 0 0" xyz="0.0 0 0.0"/>
      <geometry>
        <mesh filename="package://quadruped_robot_description/meshes/third_link.dae"/>
      </geometry>
    </collision>
    <inertial>
      <origin rpy="0.0 0.0 0.0" xyz="0.0 0  0.025"/>
      <mass value="0.6"/>
      <inertia ixx="0.0004550000000000001" ixy="0" ixz="0" iyy="0.0004550000000000001" iyz="0" izz="0.00075"/>
    </inertial>
  </link>
  <joint name="front_left_second_joint" type="revolute">
    <parent link="front_left_second_link"/>
    <child link="front_left_third_link"/>
    <origin rpy="0.0 0.0 3.141592653589793 " xyz="0.064 0.0 0.023"/>
    <axis xyz="0 0 1"/>
    <limit effort="100.0" lower="1.57" upper="4.71" velocity="0.1"/>
    <dynamics damping="0.1" friction="0.1"/>
  </joint>
  <link name="front_left_fourth_link">
    <visual>
      <origin rpy="0 0 0" xyz="0.0 0 0.0"/>
      <geometry>
        <mesh filename="package://quadruped_robot_description/meshes/fourth_link.dae"/>
      </geometry>
      <material name="grey">
        <color rgba="0.5 0.5 0.5 1.0"/>
      </material>
    </visual>
    <collision name="front_left_fourth_link_collision">
      <origin rpy="0 0 0" xyz="0.0 0 0.0"/>
      <geometry>
        <mesh filename="package://quadruped_robot_description/meshes/fourth_link.dae"/>
      </geometry>
    </collision>
    <inertial>
      <origin rpy="0.0 0.0 0.0" xyz="0.0625 0.0  0.015"/>
      <mass value="0.04"/>
      <inertia ixx="3.1041666666666677e-06" ixy="0.0" ixz="0.0" iyy="0.00010310416666666667" iyz="0.0" izz="0.00010416666666666666"/>
    </inertial>
  </link>
  <joint name="front_left_third_joint" type="revolute">
    <parent link="front_left_third_link"/>
    <child link="front_left_fourth_link"/>
    <origin rpy="0.0 0.0 3.1415800872191793" xyz="0.0 0.0 0.0555"/>
    <axis xyz="0 0 1"/>
    <limit effort="100.0" lower="0.425" upper="5.8" velocity="0.1"/>
    <dynamics damping="0.1" friction="0.1"/>
  </joint>
  <link name="front_left_fifth_link">
    <visual>
      <origin rpy="0 0 0" xyz="0.0 0 0.0"/>
      <geometry>
        <mesh filename="package://quadruped_robot_description/meshes/fifth_link.dae"/>
      </geometry>
      <material name="grey">
        <color rgba="0.5 0.5 0.5 1.0"/>
      </material>
    </visual>
    <collision name="front_left_fifth_link_collision">
      <origin rpy="0 0 0" xyz="0.0 0 0.0"/>
      <geometry>
        <mesh filename="package://quadruped_robot_description/meshes/fifth_link.dae"/>
      </geometry>
    </collision>
    <inertial>
      <origin rpy="0.0 0.0 0.0" xyz="0.105 0  0.0"/>
      <mass value="0.05"/>
      <inertia ixx="7.942708333333334e-06" ixy="0.0" ixz="0.0" iyy="0.0002616927083333333" iyz="0.0" izz="0.00026708333333333337"/>
    </inertial>
  </link>
  <joint name="front_left_fourth_joint" type="revolute">
    <parent link="front_left_fourth_link"/>
    <child link="front_left_fifth_link"/>
    <origin rpy="0.0 0.0 3.141592653589793" xyz="0.125 0.0 0.0255"/>
    <axis xyz="0 0 -1"/>
    <limit effort="  2.0" lower="-0.8" upper="-2.9" velocity="0.1"/>
    <dynamics damping="0.1" friction="0.1"/>
  </joint>
  <link name="front_left_sixth_link">
    <visual>
      <origin rpy="0 0 0" xyz="0.0 0 0.0"/>
      <geometry>
        <mesh filename="package://quadruped_robot_description/meshes/sixth_link.dae"/>
      </geometry>
      <material name="grey">
        <color rgba="0.5 0.5 0.5 1.0"/>
      </material>
    </visual>
    <collision name="front_left_sixth_link_collision">
      <origin rpy="0 0 0" xyz="0.0 0 0.0"/>
      <geometry>
        <mesh filename="package://quadruped_robot_description/meshes/sixth_link.dae"/>
      </geometry>
    </collision>
    <inertial>
      <origin rpy="0.0 0.0 0.0" xyz="0.105 0  0.0"/>
      <mass value="0.05"/>
      <inertia ixx="7.942708333333334e-06" ixy="0.0" ixz="0.0" iyy="0.0002616927083333333" iyz="0.0" izz="0.00026708333333333337"/>
    </inertial>
  </link>
  <joint name="front_left_fifth_joint" type="revolute">
    <parent link="front_left_third_link"/>
    <child link="front_left_sixth_link"/>
    <origin rpy="0.0 0.0 0.0" xyz="-0.125 0.0 0.058"/>
    <axis xyz="0 0 -1"/>
    <limit effort="100.0" lower="-3.14" upper="3.14" velocity="0.1"/>
    <dynamics damping="0.1" friction="0.1"/>
  </joint>
  <link name="front_left_foot_link">
    <visual>
      <origin rpy=" 0 0 0" xyz="0.0 0.0  0.0 "/>
      <geometry>
        <box size="0.0001 0.0001 0.0001 "/>
      </geometry>
      <material name="grey">
        <color rgba="0.5 0.5 0.5 1.0"/>
      </material>
    </visual>
    <collision name="front_left_foot_link_collision">
      <origin rpy=" 0 0 0" xyz="0.0 0.0  0.0 "/>
      <geometry>
        <box size="0.0001 0.0001 0.0001 "/>
      </geometry>
    </collision>
    <inertial>
      <mass value="2e-06"/>
      <inertia ixx="1.1e-09" ixy="0" ixz="0" iyy="1.1e-09" iyz="0" izz="1.1e-09"/>
    </inertial>
  </link>
  <joint name="front_left_foot_joint" type="revolute">
    <parent link="front_left_sixth_link"/>
    <child link="front_left_foot_link"/>
    <origin rpy="0.0 0.0 0.0" xyz="0.21 0.0 0.0115"/>
    <axis xyz="0 0 1"/>
    <limit effort="100.0" lower="-3.14" upper="3.14" velocity="0.1"/>
    <dynamics damping="0.1" friction="0.1"/>
  </joint>
  <link name="front_left_chain_close_a_link">
    <visual>
      <origin rpy=" 0 0 0" xyz="0.0 0.0  0.0 "/>
      <geometry>
        <box size="0.0001 0.0001 0.0001 "/>
      </geometry>
      <material name="grey">
        <color rgba="0.5 0.5 0.5 1.0"/>
      </material>
    </visual>
    <collision name="front_left_chain_close_a_link_collision">
      <origin rpy=" 0 0 0" xyz="0.0 0.0  0.0 "/>
      <geometry>
        <box size="0.0001 0.0001 0.0001 "/>
      </geometry>
    </collision>
    <inertial>
      <mass value="2e-06"/>
      <inertia ixx="1.1e-09" ixy="0" ixz="0" iyy="1.1e-09" iyz="0" izz="1.1e-09"/>
    </inertial>
  </link>
  <joint name="front_left_chain_close_a_joint" type="fixed">
    <parent link="front_left_fifth_link"/>
    <child link="front_left_chain_close_a_link"/>
    <origin rpy="0.0 0.0 0.0" xyz="0.105 0.0 -0.0115"/>
    <axis xyz="0 0 1"/>
  </joint>
  <link name="front_left_chain_close_b_link">
    <visual>
      <origin rpy=" 0 0 0" xyz="0.0 0.0  0.0 "/>
      <geometry>
        <box size="0.0001 0.0001 0.0001 "/>
      </geometry>
      <material name="grey">
        <color rgba="0.5 0.5 0.5 1.0"/>
      </material>
    </visual>
    <collision name="front_left_chain_close_b_link_collision">
      <origin rpy=" 0 0 0" xyz="0.0 0.0  0.0 "/>
      <geometry>
        <box size="0.0001 0.0001 0.0001 "/>
      </geometry>
    </collision>
    <inertial>
      <mass value="2e-06"/>
      <inertia ixx="1.1e-09" ixy="0" ixz="0" iyy="1.1e-09" iyz="0" izz="1.1e-09"/>
    </inertial>
  </link>
  <joint name="front_left_chain_close_b_joint" type="fixed">
    <parent link="front_left_foot_link"/>
    <child link="front_left_chain_close_b_link"/>
    <origin rpy="0.0 0.0 0.0" xyz="0.105 0.0 0.0"/>
    <axis xyz="0 0 1"/>
  </joint>
  <ros2_control name="MD80HardwareInterface" type="system">
    <hardware>
      <plugin>mujoco_ros2_control/MujocoSystem</plugin>
    </hardware>
     <joint name="front_left_first_joint">
      <command_interface name="effort">
          <param name="front_left_first_joint_kp">0.00001</param>
          <param name="kd">0.0</param>
          <param name="ki">0.0</param>
      </command_interface>
      <state_interface name="position">
        <param name="initial_value">0.0</param>
      </state_interface>
      <state_interface name="velocity">
        <param name="initial_value">0.0</param>
        <param name="max">0.1</param>
        <param name="min">-0.1</param>
      </state_interface>
      <state_interface name="effort">
        <param name="initial_value">0.0</param>
      </state_interface>
      <param name="can_id">10</param>
      <param name="max_torque">15.0</param>
      <param name="position_kp">10.0</param>
      <param name="q_ki">0.5</param>
      <param name="position_kd">0.0</param>
      <param name="q_windup">1.0</param>
      <param name="dq_kp">2.0</param>
      <param name="dq_ki">0.5</param>
      <param name="dq_kd">0.0</param>
      <param name="dq_windup">0.1</param>
      <param name="ddq_kp">25</param>
      <param name="ddq_kd">5.0</param>
    </joint>
    <joint name="front_left_second_joint">
      <command_interface name="effort">
        <!-- <param name="front_left_second_joint_kp">0.00001</param> -->
          <param name="kp">0.001</param>
          <param name="kd">1</param>
          <param name="ki">0.1</param>
        </command_interface>
      <state_interface name="position">
        <param name="initial_value">0.0</param>
      </state_interface>
      <state_interface name="velocity">
        <param name="initial_value">0.0</param>
        <param name="max">0.1</param>
        <param name="min">-0.1</param>
      </state_interface>
      <state_interface name="effort">
        <param name="initial_value">0.0</param>
      </state_interface>
      <param name="can_id">11</param>
      <param name="max_torque">10.0</param>
      <param name="position_kp">10.0</param>
      <param name="q_ki">0.5</param>
      <param name="position_kd">0.0</param>
      <param name="q_windup">1.0</param>
      <param name="dq_kp">2.0</param>
      <param name="dq_ki">0.5</param>
      <param name="dq_kd">0.0</param>
      <param name="dq_windup">0.1</param>
      <param name="ddq_kp">7.5</param>
      <param name="ddq_kd">1.0</param>
    </joint>
    <joint name="front_left_third_joint">
      <command_interface name="effort">
          <param name="kp">10</param>
          <param name="kd">1</param>
          <param name="ki">0.1</param>
      </command_interface>
      <state_interface name="position">
        <param name="initial_value">2.82</param>
      </state_interface>
      <state_interface name="velocity">
        <param name="initial_value">0.0</param>
      </state_interface>
      <state_interface name="effort">
        <param name="initial_value">0.0</param>
      </state_interface>
      <param name="can_id">12</param>
      <param name="max_torque">10.0</param>
      <param name="position_kp">10.0</param>
      <param name="q_ki">0.5</param>
      <param name="position_kd">0.0</param>
      <param name="q_windup">1.0</param>
      <param name="dq_kp">2.0</param>
      <param name="dq_ki">0.5</param>
      <param name="dq_kd">0.0</param>
      <param name="dq_windup">0.1</param>
      <param name="ddq_kp">7.5</param>
      <param name="ddq_kd">1.0</param>
    </joint>

    <!-- <joint name="front_left_fourth_joint">
      <state_interface name="position">
      </state_interface>
      <state_interface name="velocity">
        <param name="initial_value">0.0</param>
      </state_interface>
      <state_interface name="effort">
      </state_interface>
    </joint>

    <joint name="front_left_fifth_joint">
      <state_interface name="position">
      </state_interface>
      <state_interface name="velocity">
        <param name="initial_value">0.0</param>
      </state_interface>
      <state_interface name="effort">
      </state_interface>
    </joint>
     -->
    <!-- <joint name="front_right_first_joint">
      <command_interface name="effort"/>
      <state_interface name="position">
        <param name="initial_value">0.0</param>
      </state_interface>
      <state_interface name="velocity">
        <param name="initial_value">0.0</param>
      </state_interface>
      <state_interface name="effort">
        <param name="initial_value">0.0</param>
      </state_interface>
      <param name="can_id">20</param>
      <param name="max_torque">15.0</param>
      <param name="position_kp">10.0</param>
      <param name="q_ki">0.5</param>
      <param name="position_kd">0.0</param>
      <param name="q_windup">1.0</param>
      <param name="dq_kp">2.0</param>
      <param name="dq_ki">0.5</param>
      <param name="dq_kd">0.0</param>
      <param name="dq_windup">0.1</param>
      <param name="ddq_kp">25</param>
      <param name="ddq_kd">5.0</param>
    </joint>
    <joint name="front_right_second_joint">
      <command_interface name="effort"/>
      <state_interface name="position">
        <param name="initial_value">0.0</param>
      </state_interface>
      <state_interface name="velocity">
        <param name="initial_value">0.0</param>
      </state_interface>
      <state_interface name="effort">
        <param name="initial_value">0.0</param>
      </state_interface>
      <param name="can_id">21</param>
      <param name="max_torque">10.0</param>
      <param name="position_kp">10.0</param>
      <param name="q_ki">0.5</param>
      <param name="position_kd">0.0</param>
      <param name="q_windup">1.0</param>
      <param name="dq_kp">2.0</param>
      <param name="dq_ki">0.5</param>
      <param name="dq_kd">0.0</param>
      <param name="dq_windup">0.1</param>
      <param name="ddq_kp">7.5</param>
      <param name="ddq_kd">1.0</param>
    </joint>
    <joint name="front_right_third_joint">
      <command_interface name="effort"/>
      <state_interface name="position">
        <param name="initial_value">2.82</param>
      </state_interface>
      <state_interface name="velocity">
        <param name="initial_value">0.0</param>
      </state_interface>
      <state_interface name="effort">
        <param name="initial_value">0.0</param>
      </state_interface>
      <param name="can_id">22</param>
      <param name="max_torque">10.0</param>
      <param name="position_kp">10.0</param>
      <param name="q_ki">0.5</param>
      <param name="position_kd">0.0</param>
      <param name="q_windup">1.0</param>
      <param name="dq_kp">2.0</param>
      <param name="dq_ki">0.5</param>
      <param name="dq_kd">0.0</param>
      <param name="dq_windup">0.1</param>
      <param name="ddq_kp">7.5</param>
      <param name="ddq_kd">1.0</param>
    </joint>
    <joint name="rear_right_first_joint">
      <command_interface name="effort"/>
      <state_interface name="position">
        <param name="initial_value">0.0</param>
      </state_interface>
      <state_interface name="velocity">
        <param name="initial_value">0.0</param>
      </state_interface>
      <state_interface name="effort">
        <param name="initial_value">0.0</param>
      </state_interface>
      <param name="can_id">30</param>
      <param name="max_torque">15.0</param>
      <param name="position_kp">10.0</param>
      <param name="q_ki">0.5</param>
      <param name="position_kd">0.0</param>
      <param name="q_windup">1.0</param>
      <param name="dq_kp">2.0</param>
      <param name="dq_ki">0.5</param>
      <param name="dq_kd">0.0</param>
      <param name="dq_windup">0.1</param>
      <param name="ddq_kp">25</param>
      <param name="ddq_kd">5.0</param>
    </joint>
    <joint name="rear_right_second_joint">
      <command_interface name="effort"/>
      <state_interface name="position">
        <param name="initial_value">0.0</param>
      </state_interface>
      <state_interface name="velocity">
        <param name="initial_value">0.0</param>
      </state_interface>
      <state_interface name="effort">
        <param name="initial_value">0.0</param>
      </state_interface>
      <param name="can_id">31</param>
      <param name="max_torque">10.0</param>
      <param name="position_kp">10.0</param>
      <param name="q_ki">0.5</param>
      <param name="position_kd">0.0</param>
      <param name="q_windup">1.0</param>
      <param name="dq_kp">2.0</param>
      <param name="dq_ki">0.5</param>
      <param name="dq_kd">0.0</param>
      <param name="dq_windup">0.1</param>
      <param name="ddq_kp">7.5</param>
      <param name="ddq_kd">1.0</param>
    </joint>
    <joint name="rear_right_third_joint">
      <command_interface name="effort"/>
      <state_interface name="position">
        <param name="initial_value">2.82</param>
      </state_interface>
      <state_interface name="velocity">
        <param name="initial_value">0.0</param>
      </state_interface>
      <state_interface name="effort">
        <param name="initial_value">0.0</param>
      </state_interface>
      <param name="can_id">32</param>
      <param name="max_torque">10.0</param>
      <param name="position_kp">10.0</param>
      <param name="q_ki">0.5</param>
      <param name="position_kd">0.0</param>
      <param name="q_windup">1.0</param>
      <param name="dq_kp">2.0</param>
      <param name="dq_ki">0.5</param>
      <param name="dq_kd">0.0</param>
      <param name="dq_windup">0.1</param>
      <param name="ddq_kp">7.5</param>
      <param name="ddq_kd">1.0</param>
    </joint>
    <joint name="rear_left_first_joint">
      <command_interface name="effort"/>
      <state_interface name="position">
        <param name="initial_value">0.0</param>
      </state_interface>
      <state_interface name="velocity">
        <param name="initial_value">0.0</param>
      </state_interface>
      <state_interface name="effort">
        <param name="initial_value">0.0</param>
      </state_interface>
      <param name="can_id">40</param>
      <param name="max_torque">15.0</param>
      <param name="position_kp">10.0</param>
      <param name="q_ki">0.5</param>
      <param name="position_kd">0.0</param>
      <param name="q_windup">1.0</param>
      <param name="dq_kp">2.0</param>
      <param name="dq_ki">0.5</param>
      <param name="dq_kd">0.0</param>
      <param name="dq_windup">0.1</param>
      <param name="ddq_kp">25</param>
      <param name="ddq_kd">5.0</param>
    </joint>
    <joint name="rear_left_second_joint">
      <command_interface name="effort"/>
      <state_interface name="position">
        <param name="initial_value">0.0</param>
      </state_interface>
      <state_interface name="velocity">
        <param name="initial_value">0.0</param>
      </state_interface>
      <state_interface name="effort">
        <param name="initial_value">0.0</param>
      </state_interface>
      <param name="can_id">41</param>
      <param name="max_torque">10.0</param>
      <param name="position_kp">10.0</param>
      <param name="q_ki">0.5</param>
      <param name="position_kd">0.0</param>
      <param name="q_windup">1.0</param>
      <param name="dq_kp">2.0</param>
      <param name="dq_ki">0.5</param>
      <param name="dq_kd">0.0</param>
      <param name="dq_windup">0.1</param>
      <param name="ddq_kp">7.5</param>
      <param name="ddq_kd">1.0</param>
    </joint>
    <joint name="rear_left_third_joint">
      <command_interface name="effort"/>
      <state_interface name="position">
        <param name="initial_value">2.82</param>
      </state_interface>
      <state_interface name="velocity">
        <param name="initial_value">0.0</param>
      </state_interface>
      <state_interface name="effort">
        <param name="initial_value">0.0</param>
      </state_interface>
      <param name="can_id">42</param>
      <param name="max_torque">10.0</param>
      <param name="position_kp">10.0</param>
      <param name="q_ki">0.5</param>
      <param name="position_kd">0.0</param>
      <param name="q_windup">1.0</param>
      <param name="dq_kp">2.0</param>
      <param name="dq_ki">0.5</param>
      <param name="dq_kd">0.0</param>
      <param name="dq_windup">0.1</param>
      <param name="ddq_kp">7.5</param>
      <param name="ddq_kd">1.0</param>
    </joint> -->
    <!-- <xacro:ros2_control_passive_point name="rear_left_fourth_joint" />
    <xacro:ros2_control_passive_point name="rear_left_fifth_joint" /> -->
  </ros2_control>
  <!-- <xacro:imu_ros2_control/> -->
</robot>
